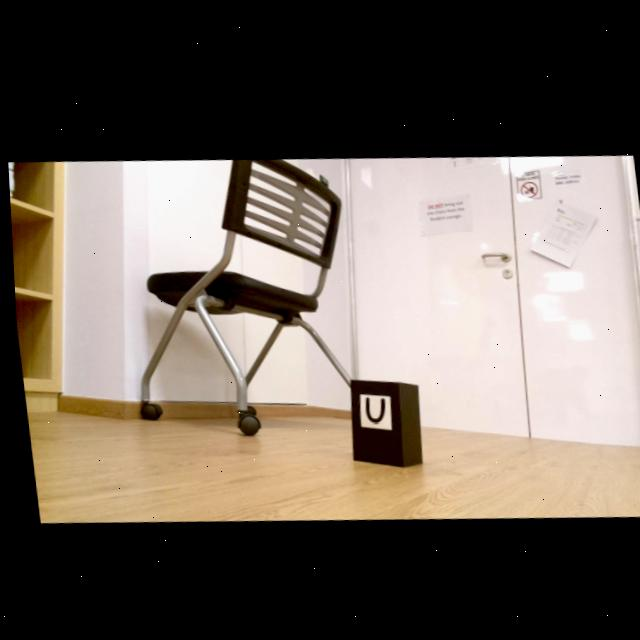U: (361, 393, 381, 418)
